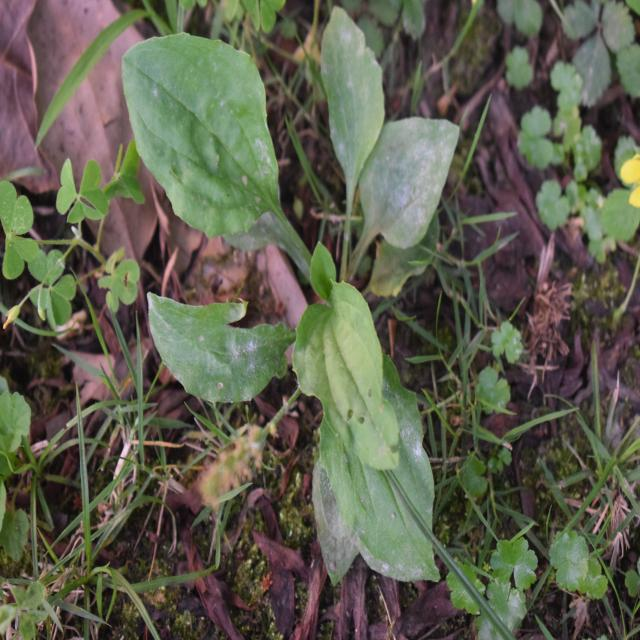plantain: (115, 38, 454, 522)
